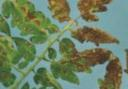Tomato Septoria leaf spot: (0, 28, 43, 84), (16, 8, 61, 53), (40, 49, 85, 89), (20, 62, 80, 89), (6, 30, 42, 65)
